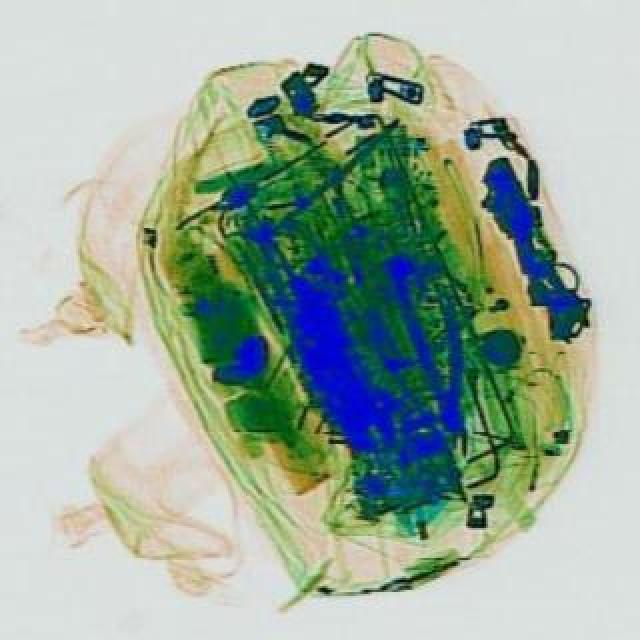wrench: (392, 260, 474, 432)
